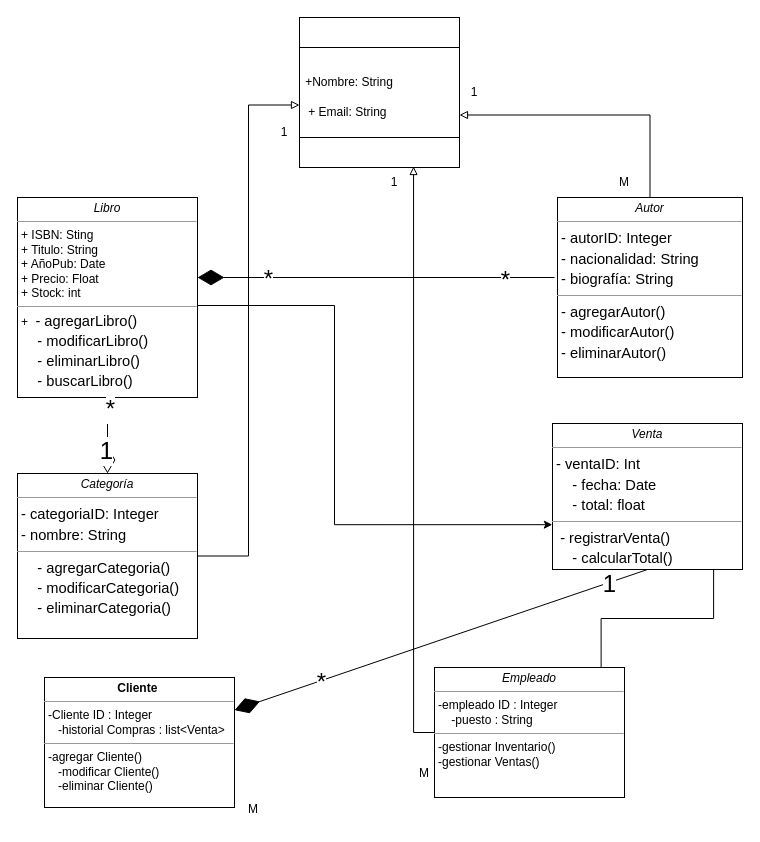
The diagram is 760 pixels wide and 842 high, and some of its shapes have lost their labels. Each missing label, with the box of its shape:
+ Mostrar_infprmación(): (298, 136, 460, 168)
Persona: (298, 16, 460, 48)
